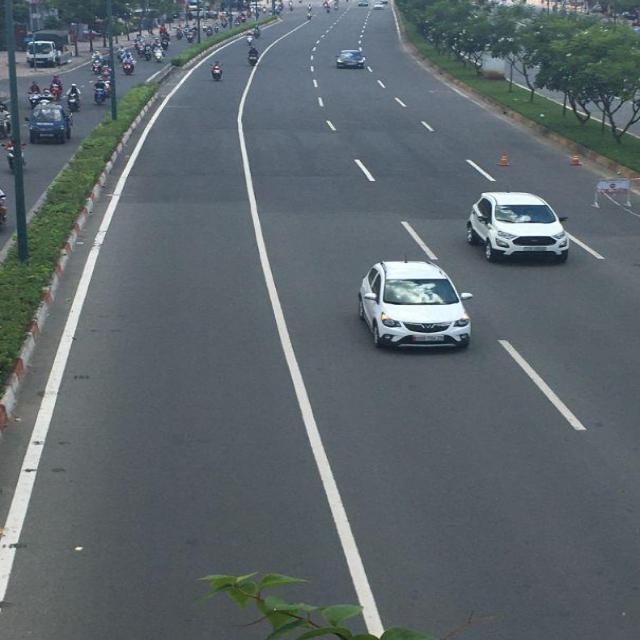car: (356, 257, 472, 354), (466, 190, 574, 265), (337, 49, 365, 69)
motorcycle: (94, 82, 108, 104), (121, 54, 136, 74), (213, 62, 224, 80)
truck: (29, 97, 76, 146), (28, 29, 82, 69)
